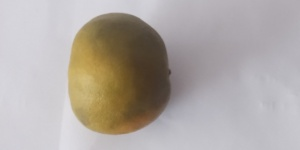BAD: (65, 9, 174, 137)
